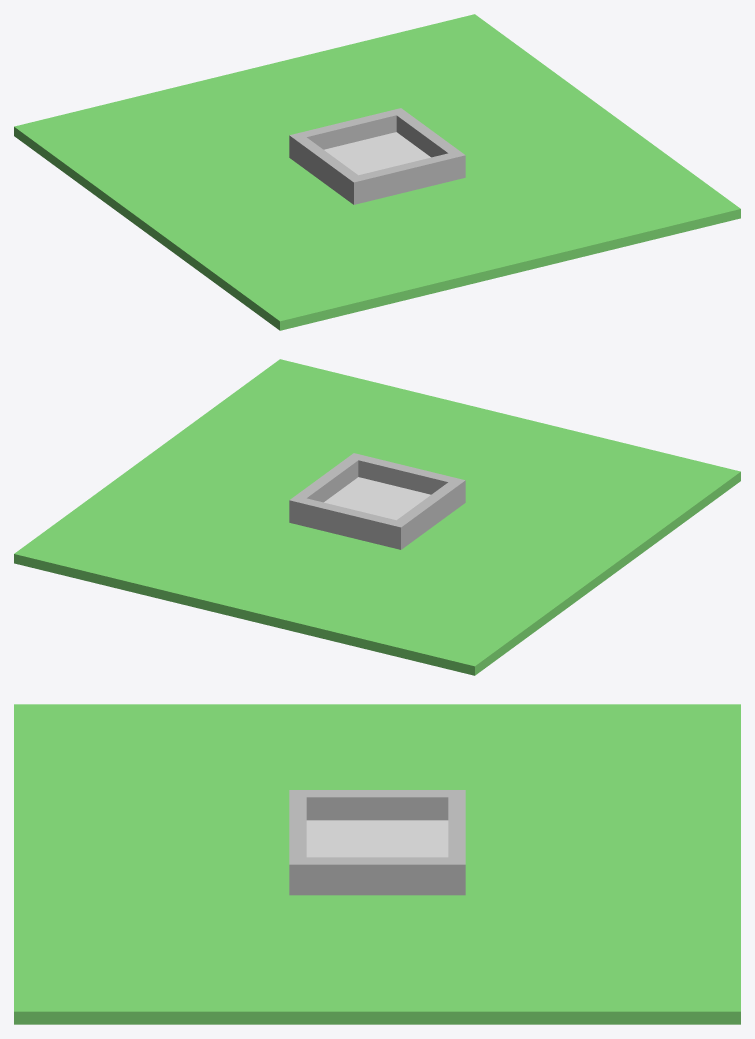
File: PlacaMaeTeste.fbx
3 views of the same model, one above another, from view 1: azimuth 30°, elevation 25°; view 2: azimuth 150°, elevation 25°; view 3: azimuth 270°, elevation 25° (orthographic). The views are drawn at different scales.
Parts seen in each view (by area): view 1: PlacaMaeTeste; view 2: PlacaMaeTeste; view 3: PlacaMaeTeste.
Part boxes in pixels (x1=…): PlacaMaeTeste: x1=14, y1=14, x2=740, y2=330; PlacaMaeTeste: x1=14, y1=359, x2=740, y2=675; PlacaMaeTeste: x1=14, y1=704, x2=740, y2=1024.
Size of the model in its own units: 200 by 13.25 by 200.
